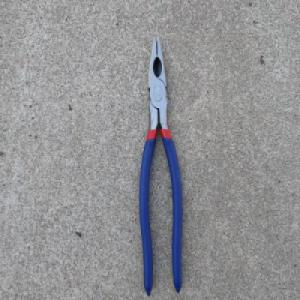Pliers: (138, 33, 183, 296)
